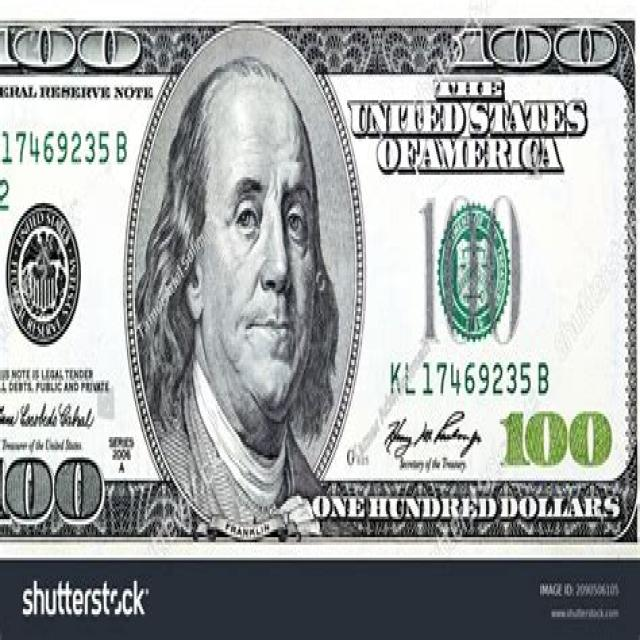Hundred: (0, 15, 640, 554)
